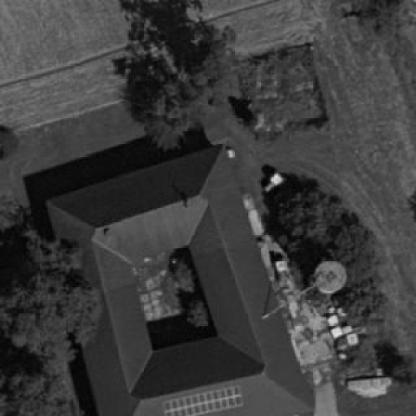solar-pv-panel: (162, 385, 244, 416)
